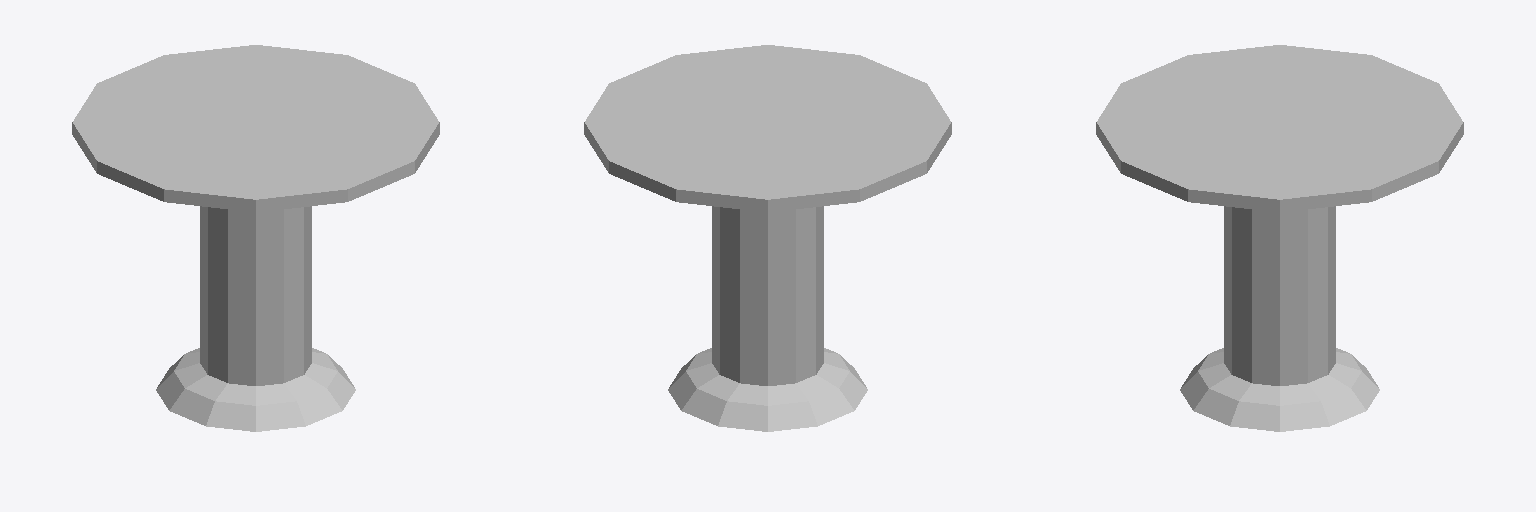
Rendered from PuzzleStand.obj.
3 views of the same model, side by side, from view 1: azimuth 30°, elevation 25°; view 2: azimuth 150°, elevation 25°; view 3: azimuth 270°, elevation 25° (orthographic).
Visible parts, largest first — view 1: 円柱; view 2: 円柱; view 3: 円柱.
Boxes of the visible parts, <box> form: 円柱: <box>72,45,439,431</box>; 円柱: <box>584,45,951,431</box>; 円柱: <box>1096,45,1463,431</box>.
Bounding box in the file's own units: 2.46 × 1.98 × 2.46.